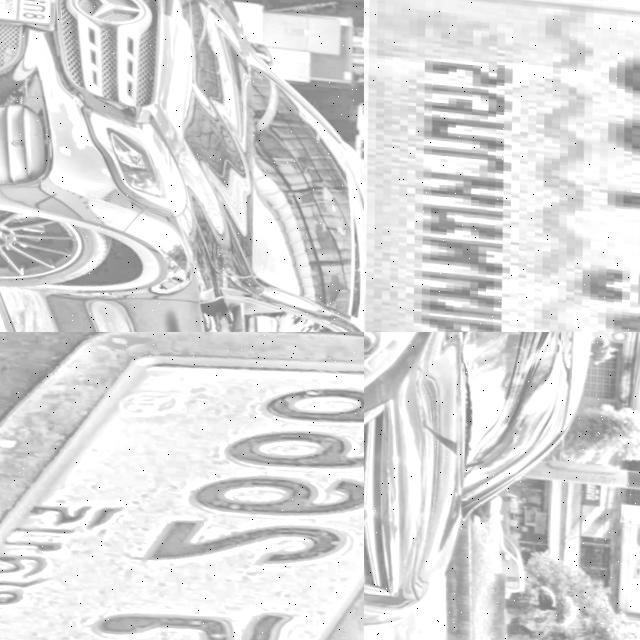license-plate: (0, 332, 364, 640), (364, 0, 640, 332), (0, 0, 54, 22)
